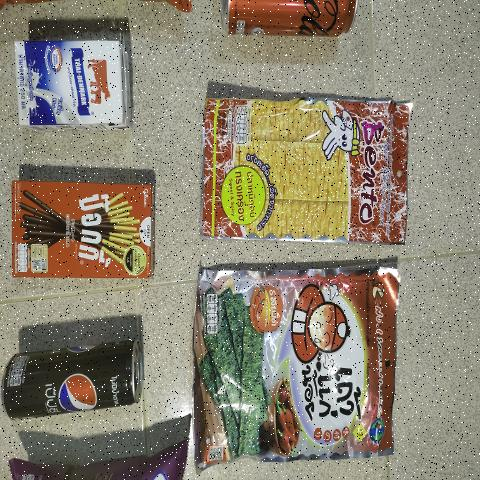bento_red: (213, 90, 405, 246)
pepsi_black: (0, 342, 146, 419)
pokki: (11, 178, 153, 281)
taokaenoi: (199, 278, 394, 456)
thai_denmark: (18, 40, 125, 123)
